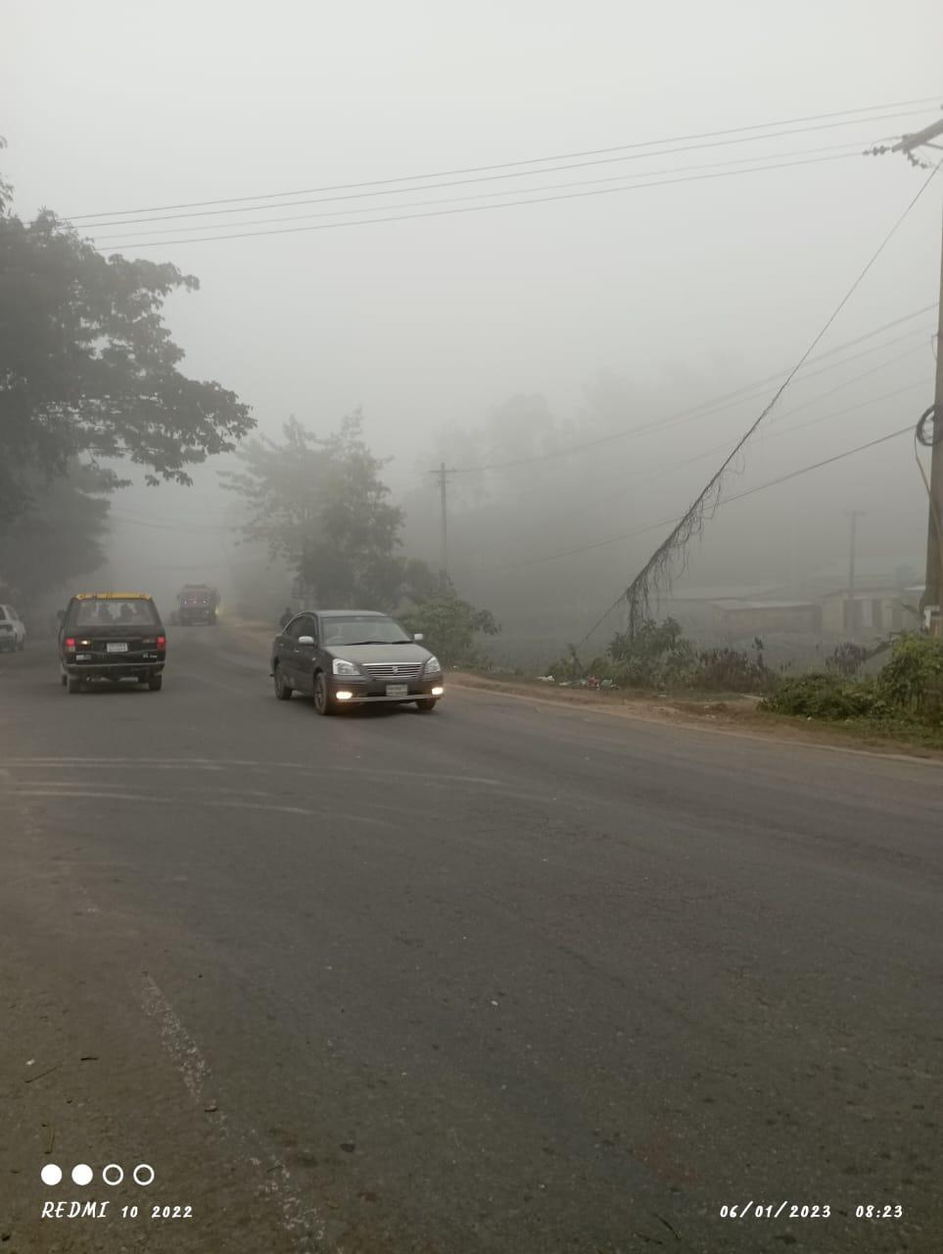Car: (259, 596, 455, 724), (52, 588, 186, 699)
